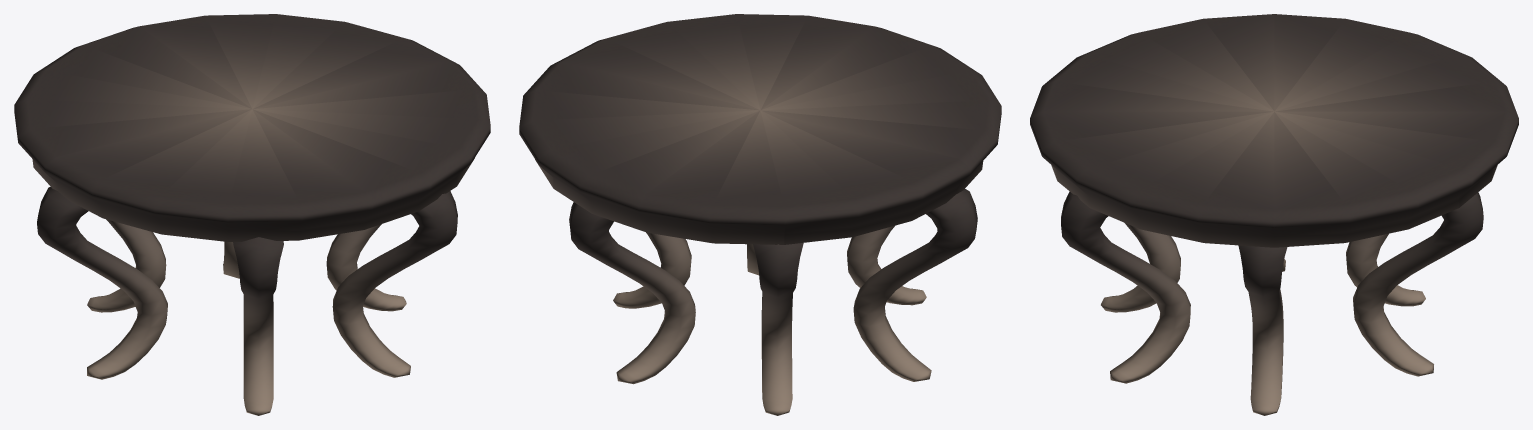
Rendered from SRRoundTable.fbx.
The picture shows the model from 3 angles, left to right: view 1: azimuth 30°, elevation 25°; view 2: azimuth 150°, elevation 25°; view 3: azimuth 270°, elevation 25°; orthographic projection. The views are drawn at different scales.
Visible parts, largest first — view 1: RoundTable; view 2: RoundTable; view 3: RoundTable.
Boxes of the visible parts, x1,y1,x2,y2 form: RoundTable: [14, 14, 490, 415]; RoundTable: [519, 14, 1001, 415]; RoundTable: [1030, 14, 1518, 415].
Size of the model in its own units: 1.29 by 0.6686 by 1.27.
